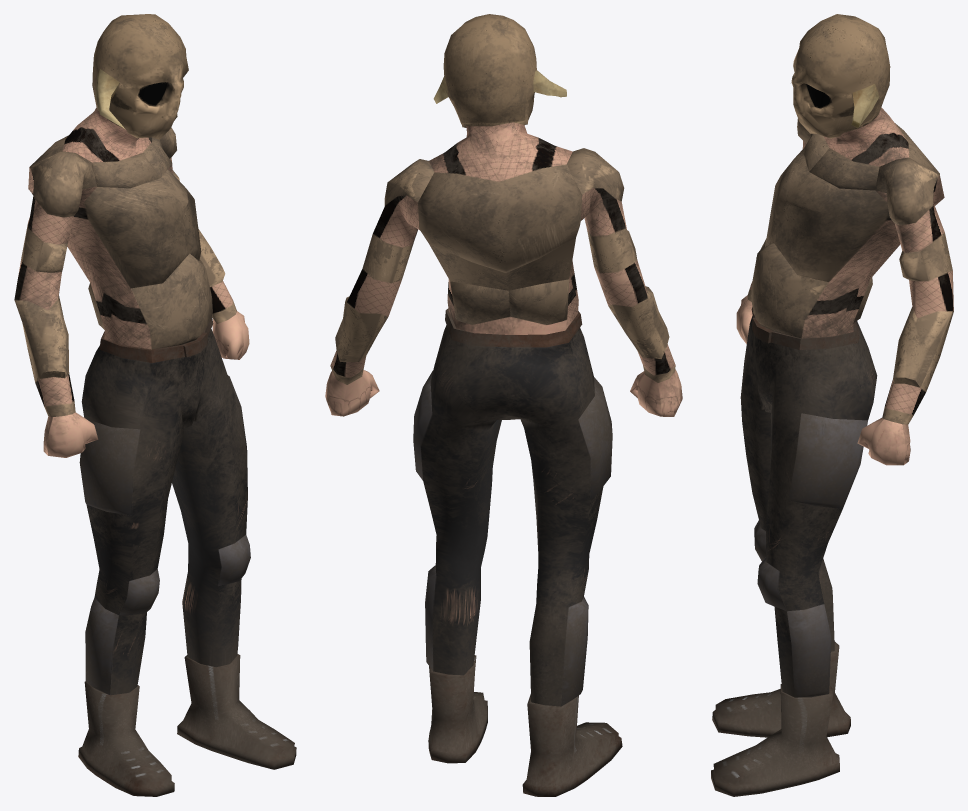
File: Anim_recibirdanyo_npc1.0032.obj
3 renders of one model, left to right at view 1: azimuth 30°, elevation 25°; view 2: azimuth 150°, elevation 25°; view 3: azimuth 270°, elevation 25°, orthographic. The views are drawn at different scales.
Visible parts, largest first — view 1: NPC2; view 2: NPC2; view 3: NPC2.
Boxes of the visible parts, <box> form: NPC2: <box>14,14,296,796</box>; NPC2: <box>325,14,682,796</box>; NPC2: <box>711,14,953,796</box>.
Bounding box in the file's own units: 3.65 × 9.5 × 2.86.
